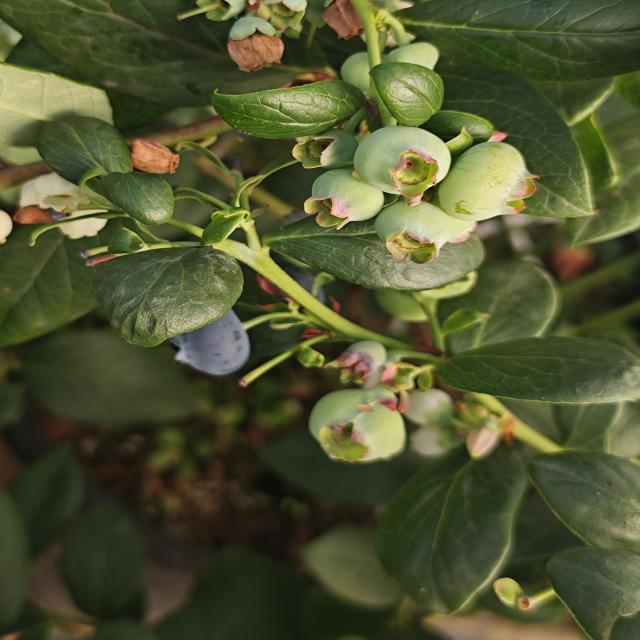ripe: (173, 313, 253, 378)
